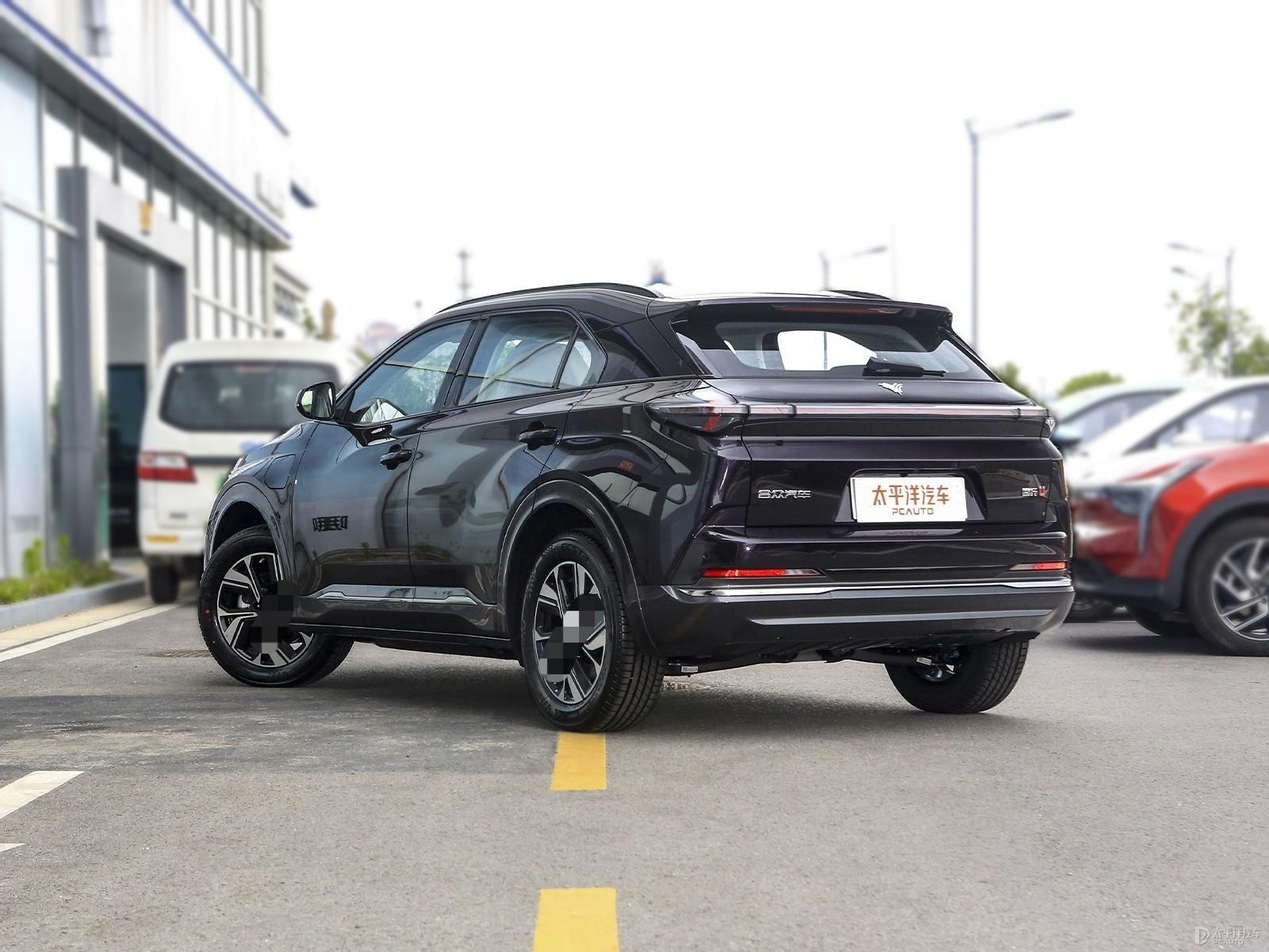NETA: (878, 380, 904, 399)
